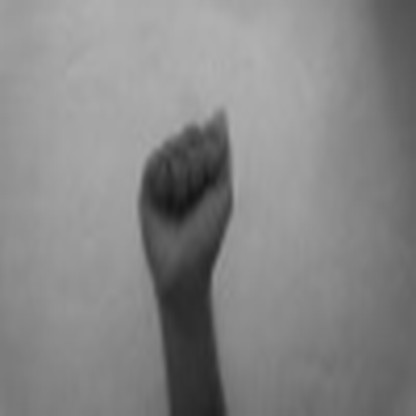a: (128, 92, 247, 282)
